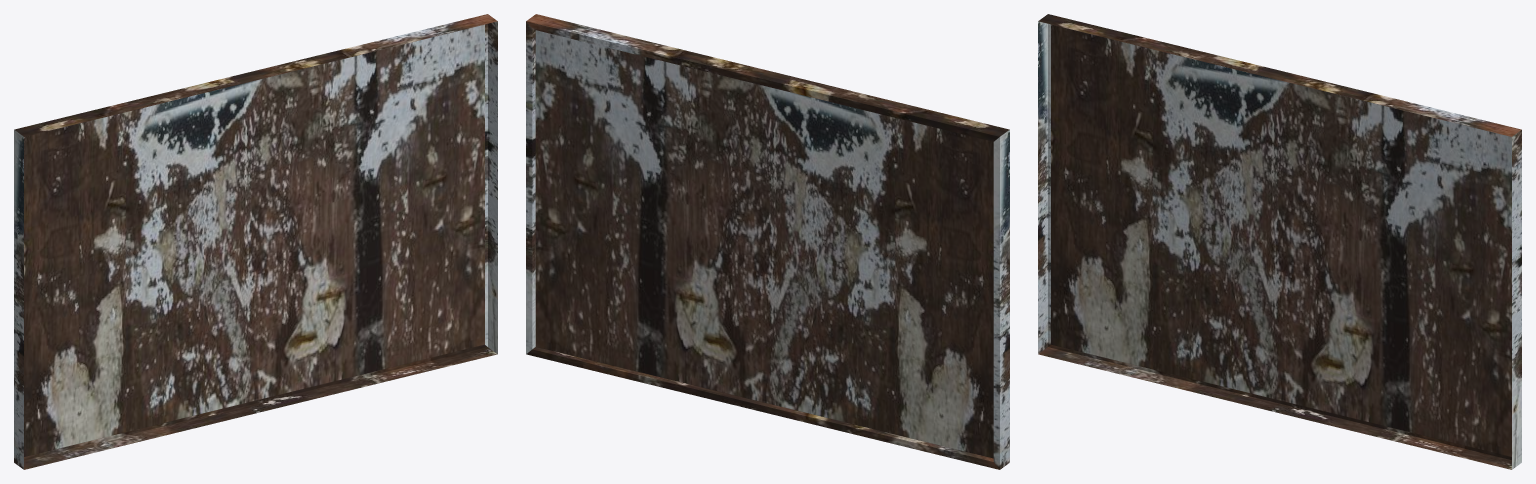
The model's file is board.fbx.
3 views of the same model, side by side, from view 1: azimuth 30°, elevation 25°; view 2: azimuth 150°, elevation 25°; view 3: azimuth 330°, elevation 25° (orthographic).
Parts seen in each view (by area): view 1: board; view 2: board; view 3: board.
Boxes of the visible parts, x1,y1,x2,y2 form: board: (14,14,497,469); board: (526,14,1009,469); board: (1038,14,1521,469).
Bounding box in the file's own units: 1.65 × 1.11 × 0.0602.
Materials: 1 (1 with a texture image).
